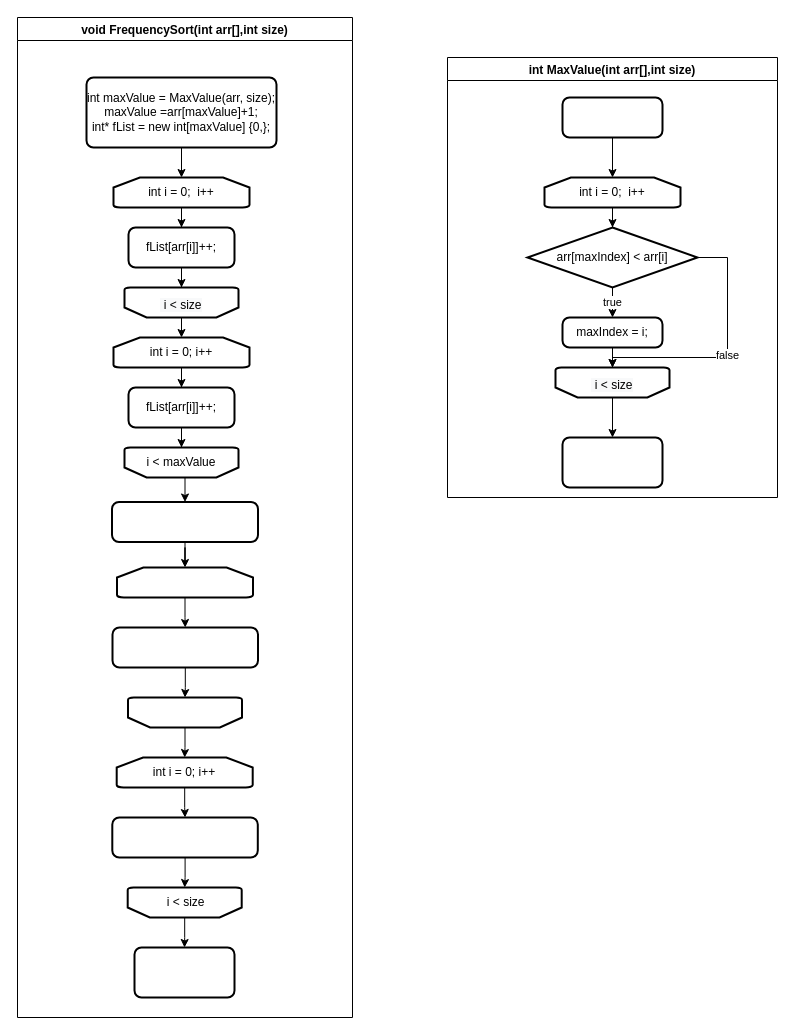
Image size: 795x1035. Some labels were removed from this diagram. Each missing label, with the centre of its shape:
arr[i] = b[i];: point 184,837
b[--fList[arr[i]]] = arr[i];: point 184,647
delete[] fList; delete[] b;: point 184,972
i >= 0: point 184,712
int i = size - 1; i--: point 185,582
int maxIndex=0;: point 612,117
int* b = new int[size] {0, };: point 184,521
return maxIndex;: point 612,462
